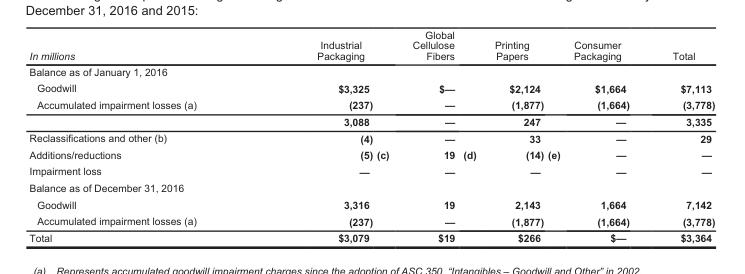table: (28, 28, 714, 243)
table column: (28, 28, 256, 243), (256, 28, 400, 243), (400, 28, 484, 243), (566, 28, 650, 243), (484, 28, 566, 243), (650, 28, 714, 243)
table column header: (28, 28, 714, 63)
table projected row header: (28, 63, 714, 79), (28, 179, 714, 195)
table row: (28, 28, 714, 63), (28, 79, 714, 96), (28, 96, 714, 113), (28, 129, 714, 146), (28, 162, 714, 179), (28, 195, 714, 212), (28, 212, 714, 229), (28, 63, 714, 79), (28, 113, 714, 129), (28, 146, 714, 162), (28, 179, 714, 195), (28, 229, 714, 243)
